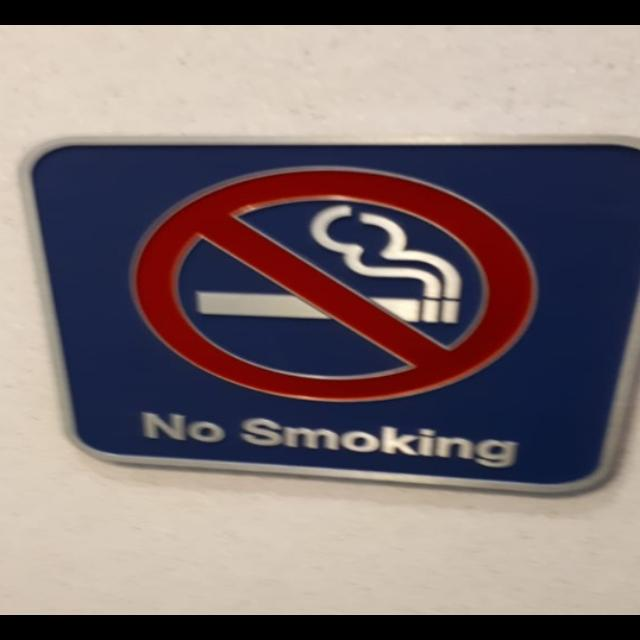cam hut thuoc: (27, 140, 639, 489)
